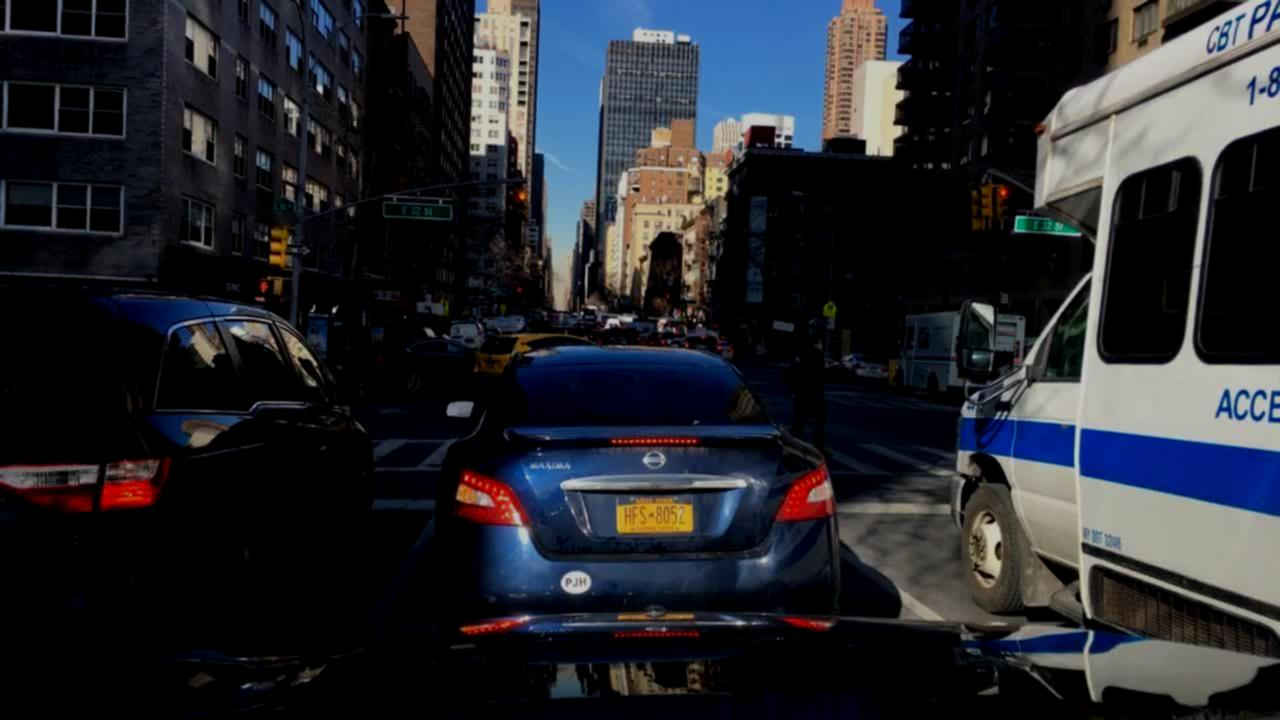Nissan: (629, 442, 673, 476)
